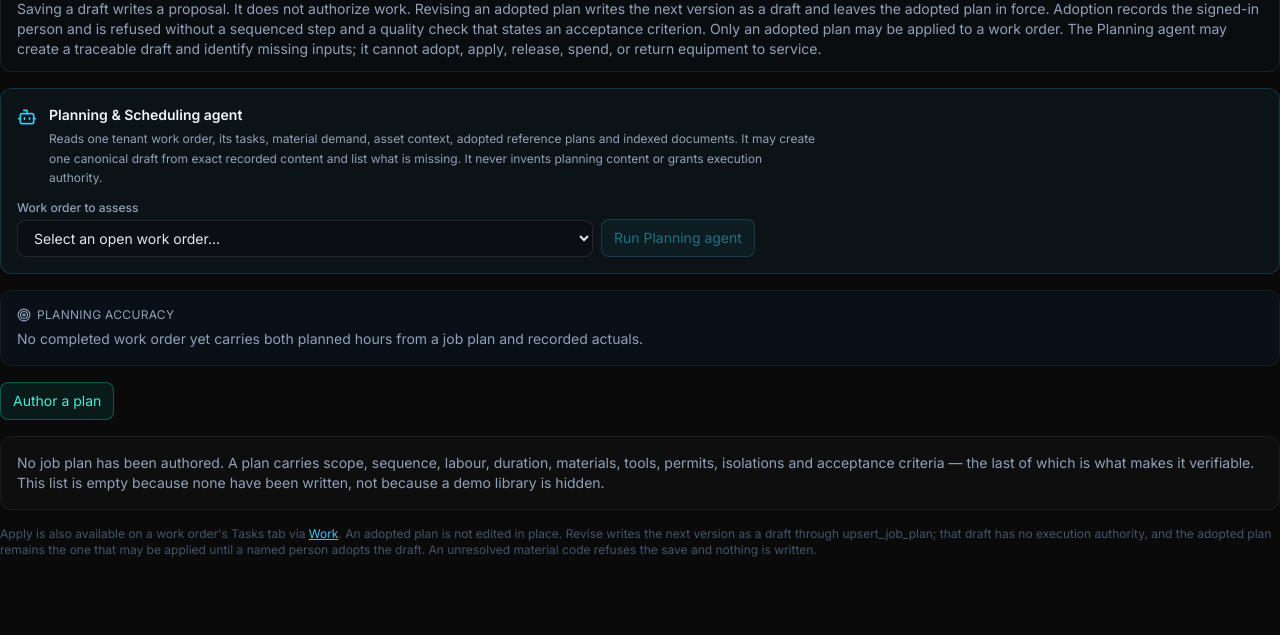
Test case: JobPlans authoring surface › saves a draft through upsertJobPlan
Click the button "Author a plan". click: (57, 400)
box: [0, 382, 114, 420]
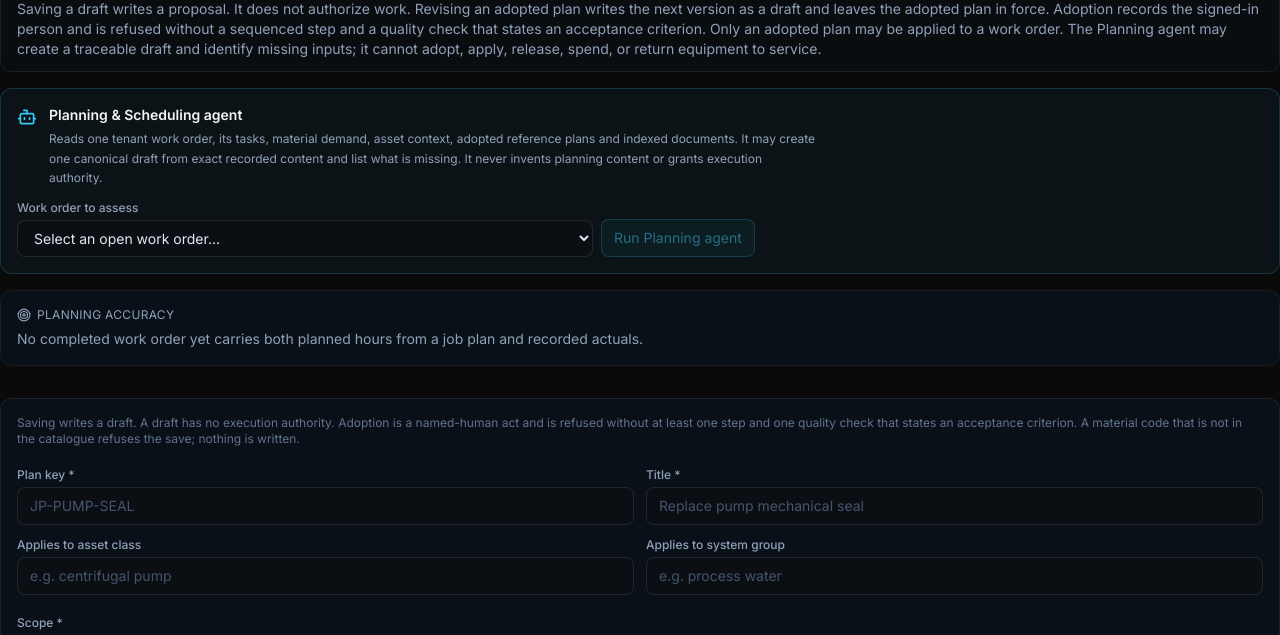
Type "JP-SEAL" into the field labelled "Plan key". click: (326, 506)
box: [17, 486, 634, 524]
Type "Replace pump seal" into the field named "Plan title". click: (954, 506)
box: [646, 486, 1263, 524]
(page scrolled)
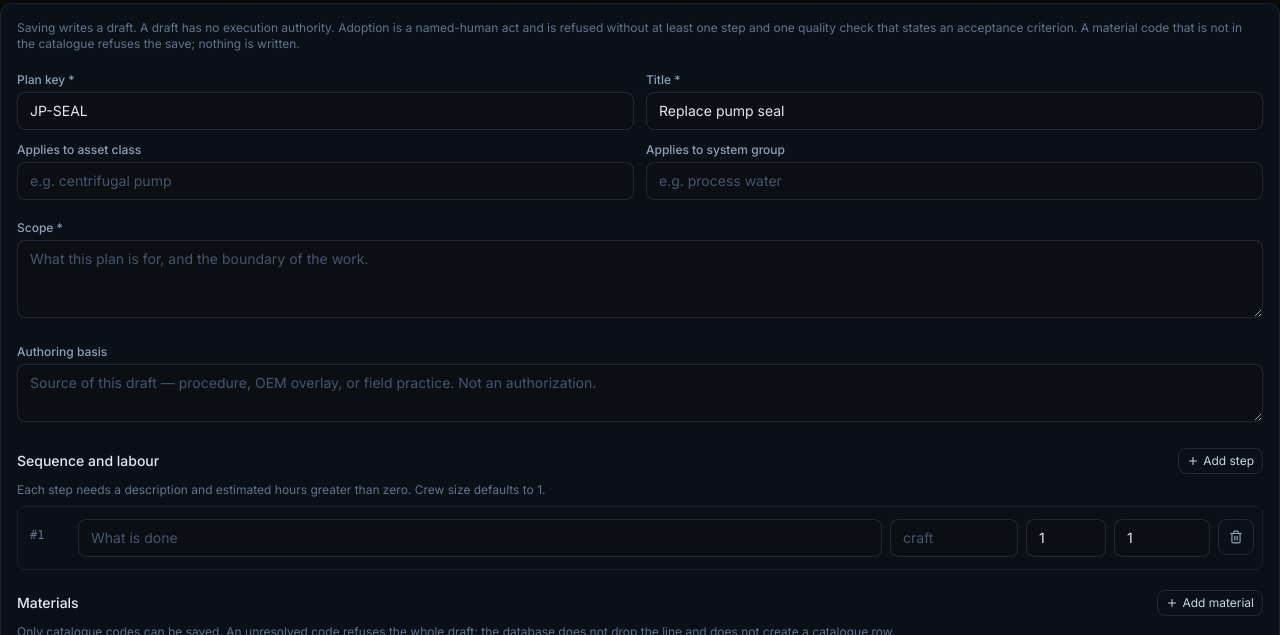
Type "Mechanical seal replacement." into the text box named "Plan scope". click: (640, 278)
box: [17, 240, 1263, 318]
Type "Isolate and drain" into the field named "Step 1 description". click: (480, 538)
box: [78, 518, 882, 556]
(page scrolled)
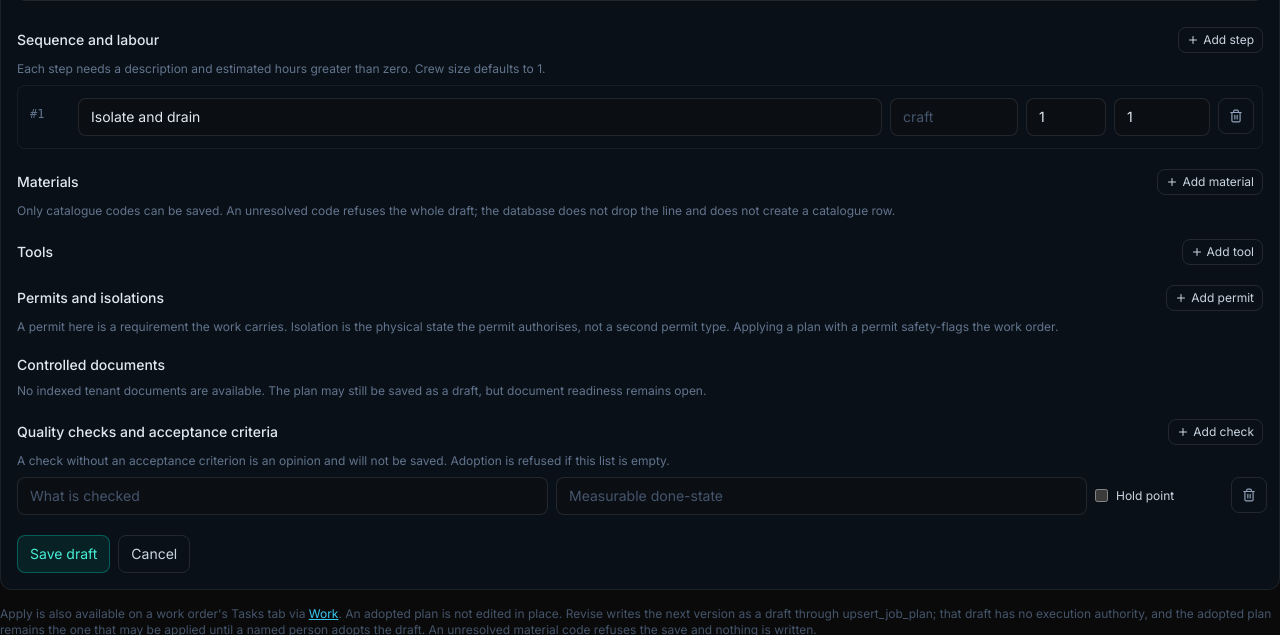
Type "Leak check" into the field named "Check 1 description". click: (282, 496)
box: [17, 476, 548, 514]
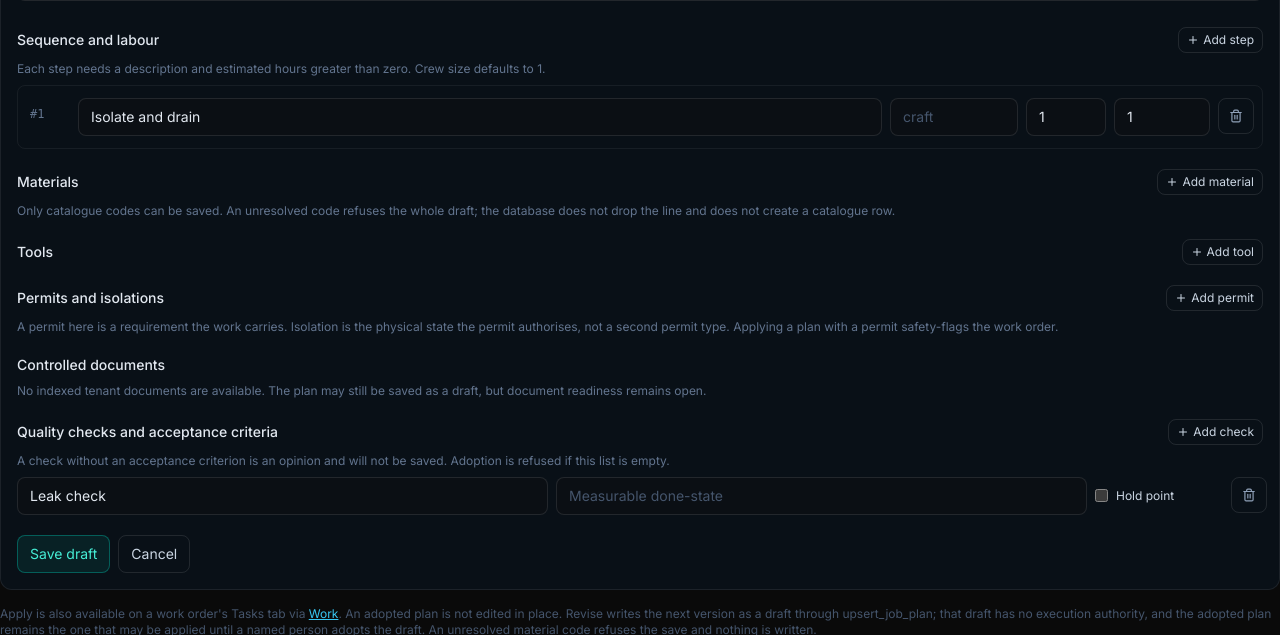
Type "Zero visible leakage for 10 minutes" into the field named "Check 1 acceptance criterion". click: (822, 496)
box: [556, 476, 1087, 514]
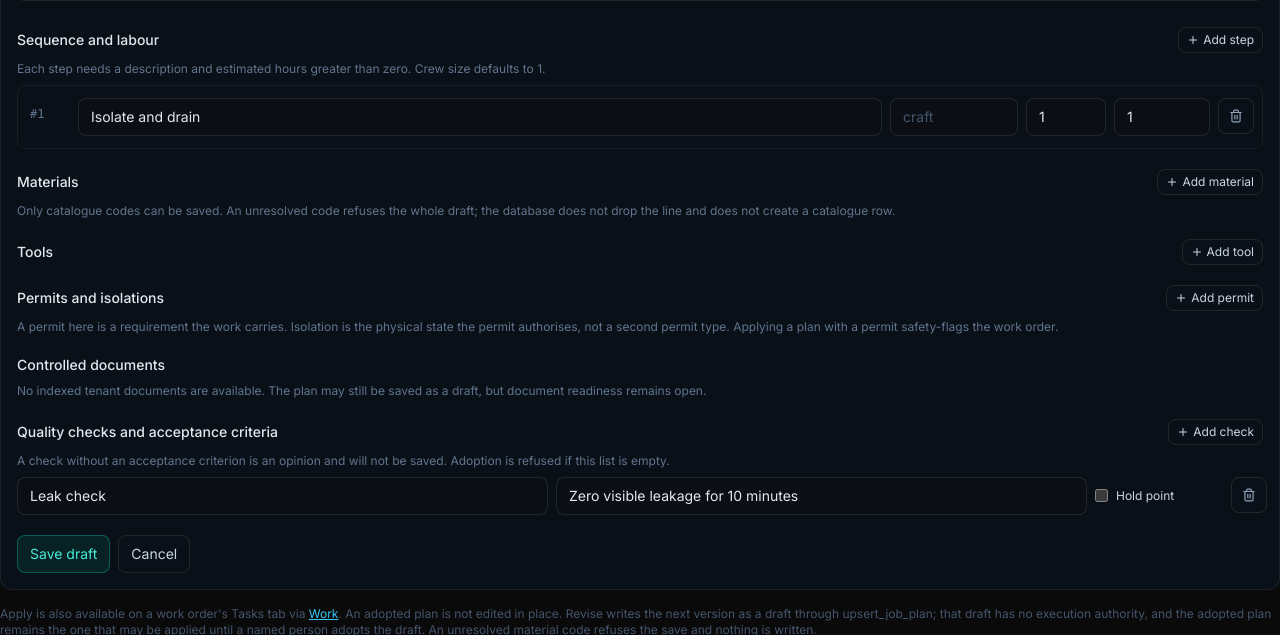
Click the button "Save draft". click: (64, 554)
box: [17, 534, 110, 572]
(page scrolled)
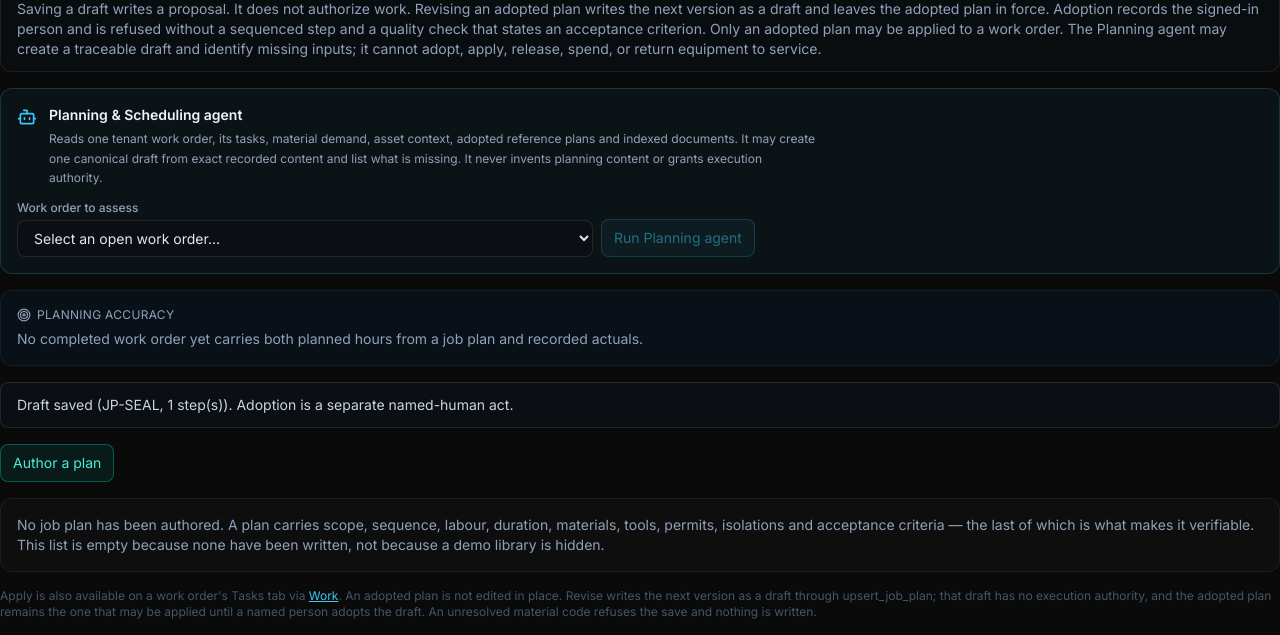
Result: the text "Draft saved (JP-SEAL, 1 step(s)). Adoption is a separate named-human act." is shown at [0, 382, 1279, 428]
